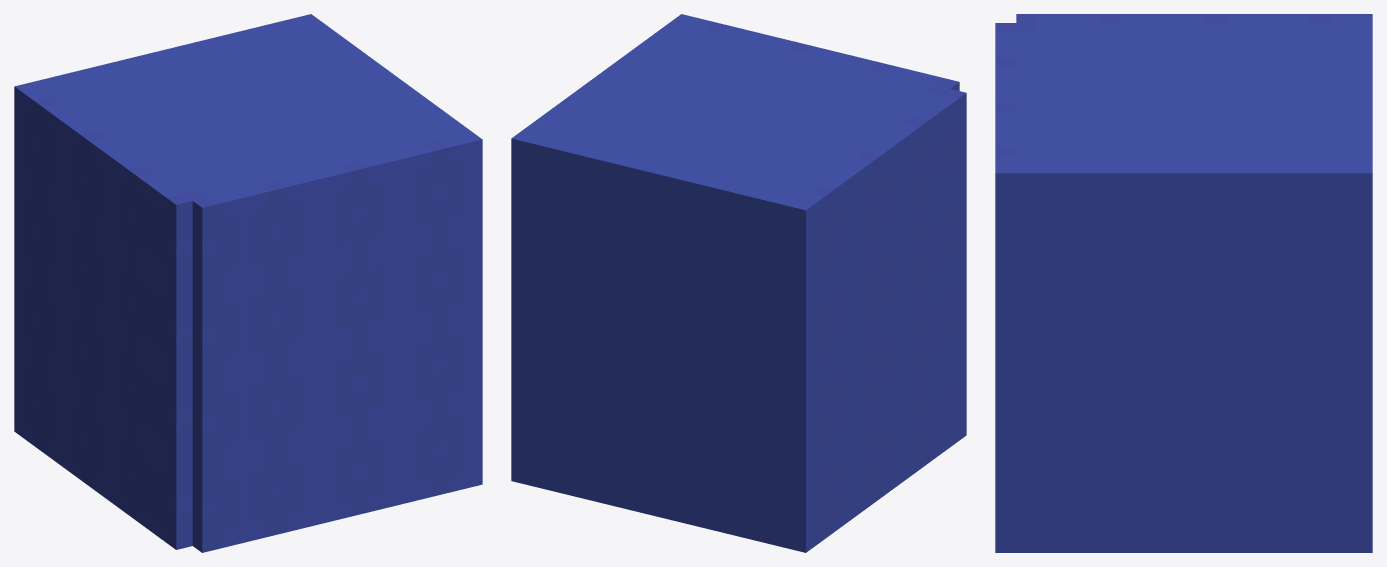
File: world_4_tiles_full_turn.glb
3 renders of one model, left to right at view 1: azimuth 30°, elevation 25°; view 2: azimuth 150°, elevation 25°; view 3: azimuth 270°, elevation 25°, orthographic. The views are drawn at different scales.
Visible parts, largest first — view 1: full_turn; view 2: full_turn; view 3: full_turn.
Boxes of the visible parts, <box> form: full_turn: <box>14,14,482,552</box>; full_turn: <box>511,14,966,552</box>; full_turn: <box>995,14,1372,552</box>.
Bounding box in the file's own units: 1.8 × 2 × 1.8.
Materials: 1 (1 with a texture image).
